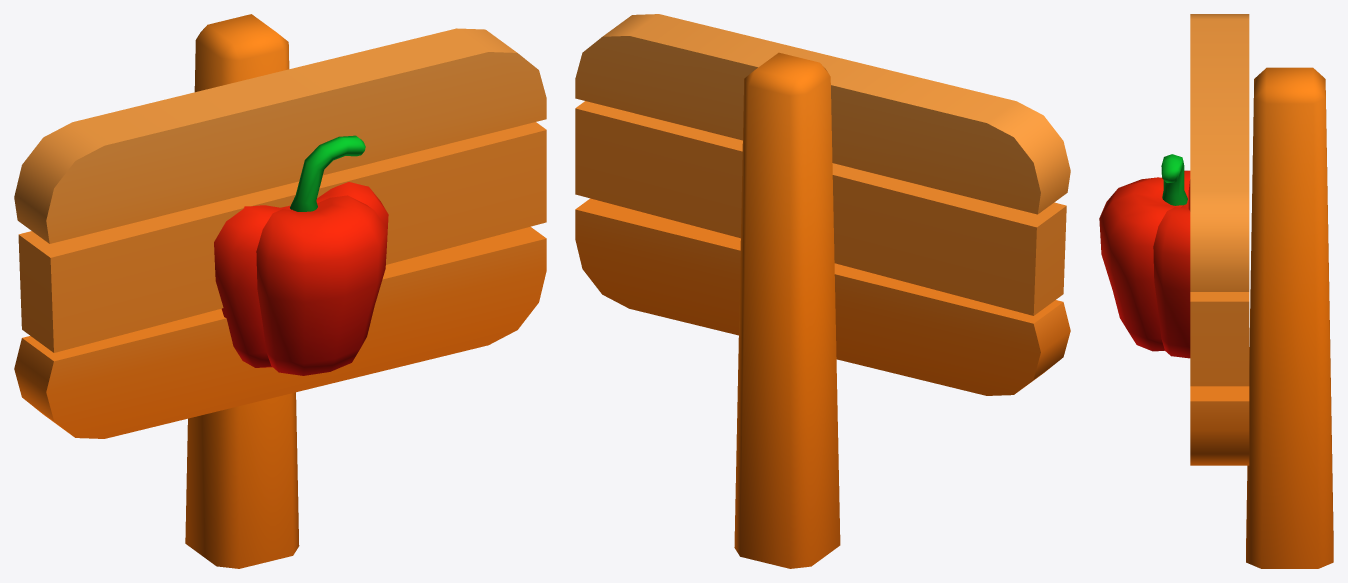
Rendered from Farm_Crop_Sign_Capsicum_01.fbx.
3 renders of one model, left to right at view 1: azimuth 30°, elevation 25°; view 2: azimuth 150°, elevation 25°; view 3: azimuth 270°, elevation 25°, orthographic. The views are drawn at different scales.
Parts seen in each view (by area): view 1: Farm_Crop_Sign_Capsicum_01; view 2: Farm_Crop_Sign_Capsicum_01; view 3: Farm_Crop_Sign_Capsicum_01.
Boxes of the visible parts, x1=… form: Farm_Crop_Sign_Capsicum_01: x1=14, y1=14, x2=546, y2=568; Farm_Crop_Sign_Capsicum_01: x1=575, y1=14, x2=1070, y2=568; Farm_Crop_Sign_Capsicum_01: x1=1099, y1=14, x2=1333, y2=568.
Size of the model in its own units: 90.11 by 88.8 by 39.86.
